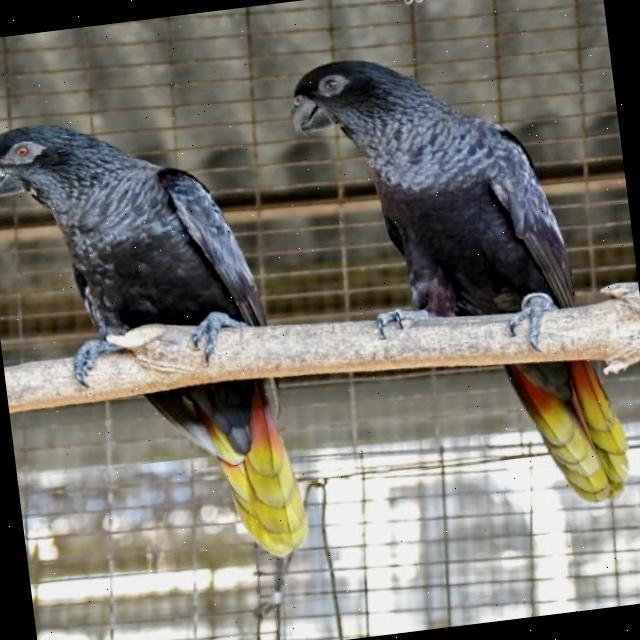Nuri Hitam: (271, 9, 640, 548), (0, 77, 329, 595)
